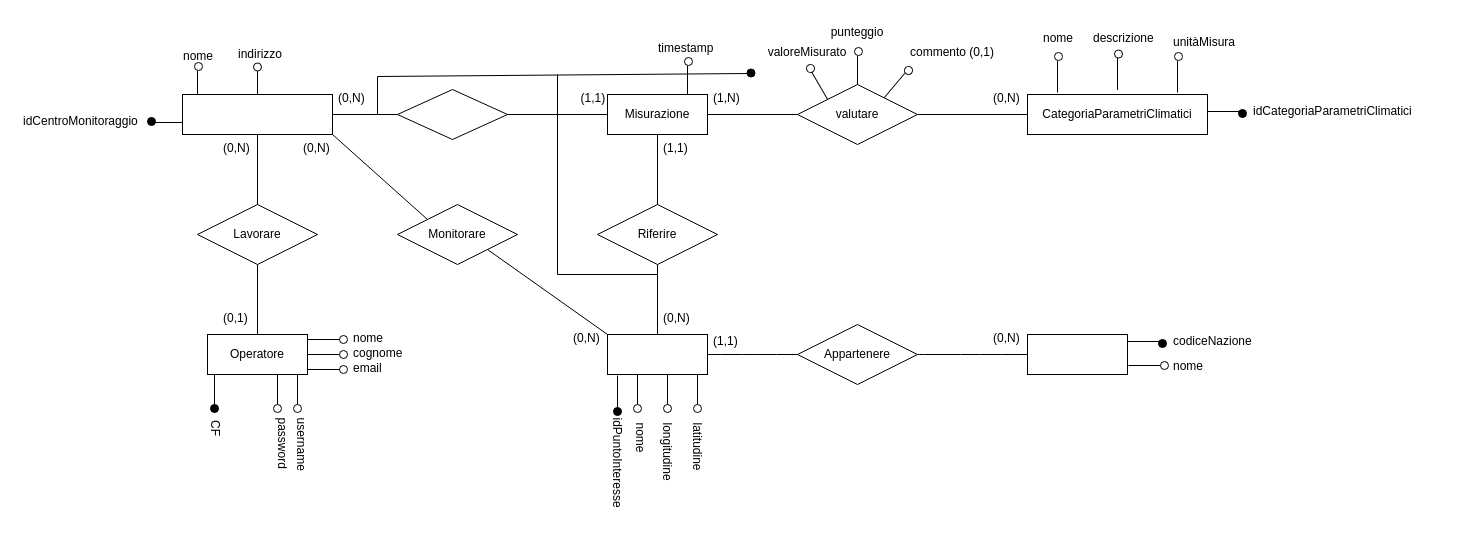
Some shapes in this 1464 by 534 pixel diagram are drawn without their labels. Here are the shapes that lost their labels. From the top down, the box of each, then its label:
(182, 94, 332, 134): CentroMonitoraggio
(396, 88, 508, 140): Registrare
(606, 334, 708, 374): PuntoInteresse
(1026, 334, 1128, 374): Nazione
